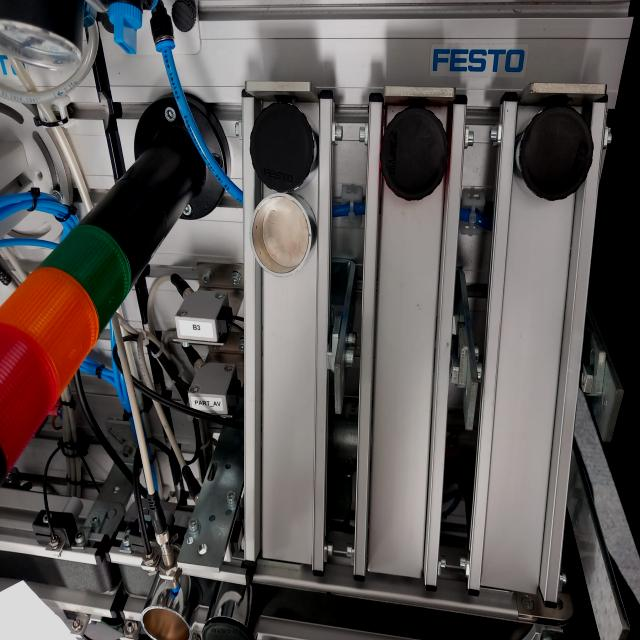NoLid: (240, 196, 318, 286)
Workpiece: (512, 102, 599, 199), (244, 99, 326, 199), (378, 108, 454, 204)
